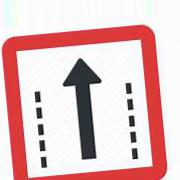forward: (4, 28, 168, 180)
